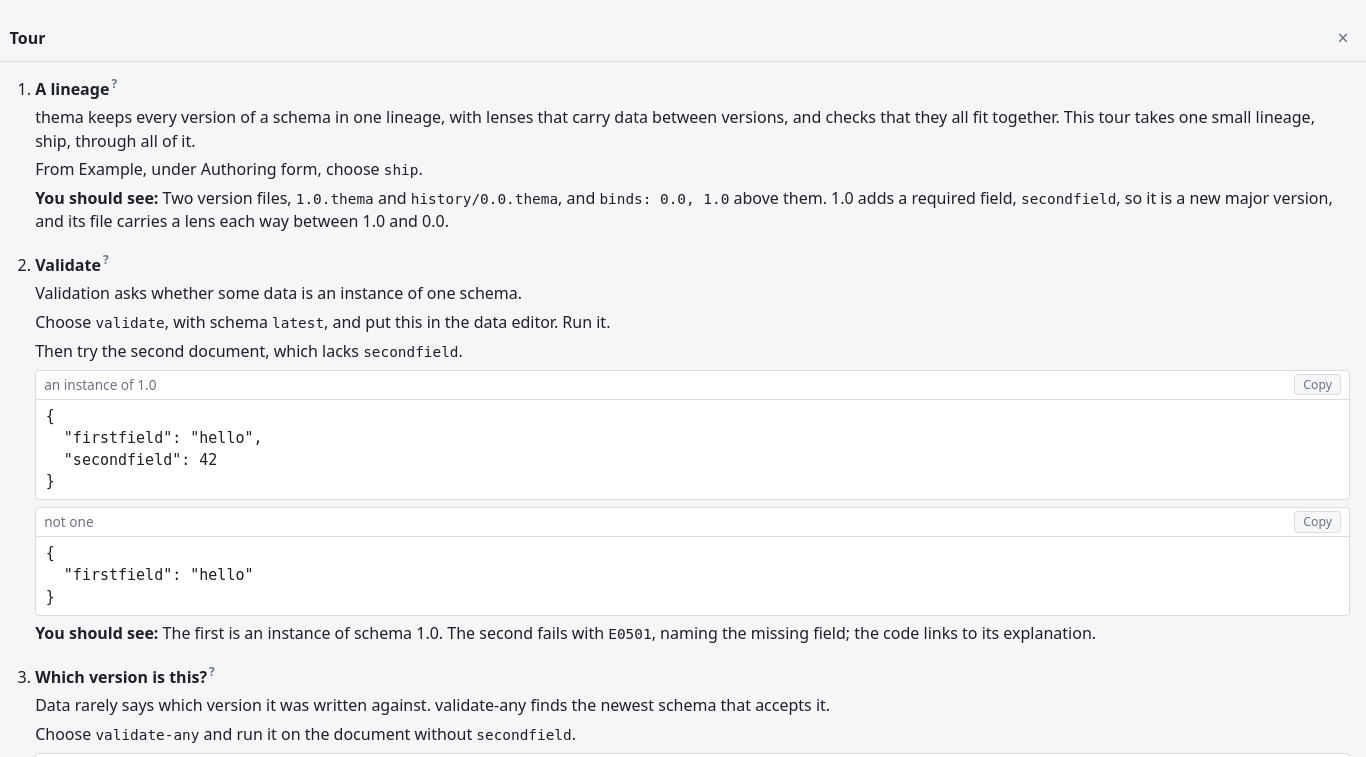
Test case: Tour › copies a snippet's text exactly
(page scrolled)
Click the 1st button "Copy" at (1318, 385), box 1294,374 -> 1341,395
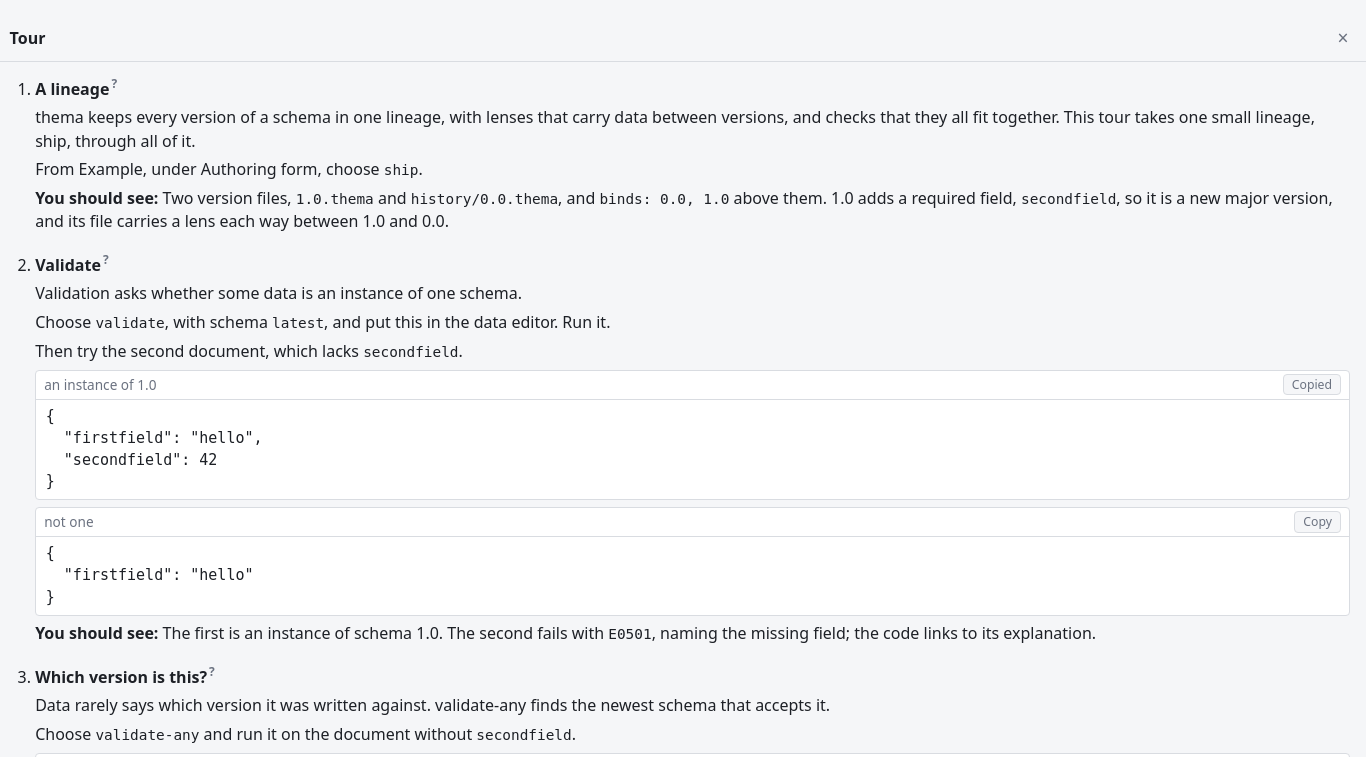
Check: the button "Copied" is shown, box 1283,374 -> 1341,395
